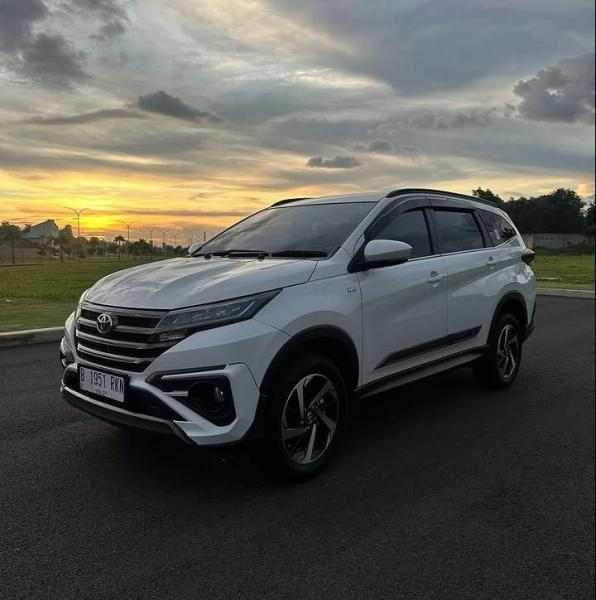plat nomor: (78, 364, 126, 406)
